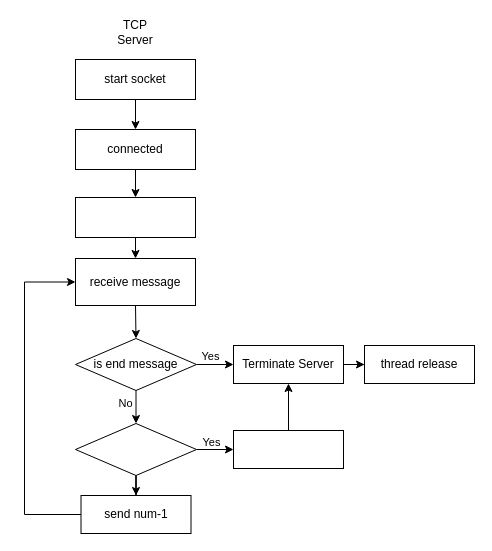
The diagram is 492 pixels wide and 551 high, and some of its shapes have lost their labels. Each missing label, with the centre of its shape:
"is num-1 equal 0" goes at [135,449].
"send end message" goes at [288,449].
"thread locked" goes at [135,217].
